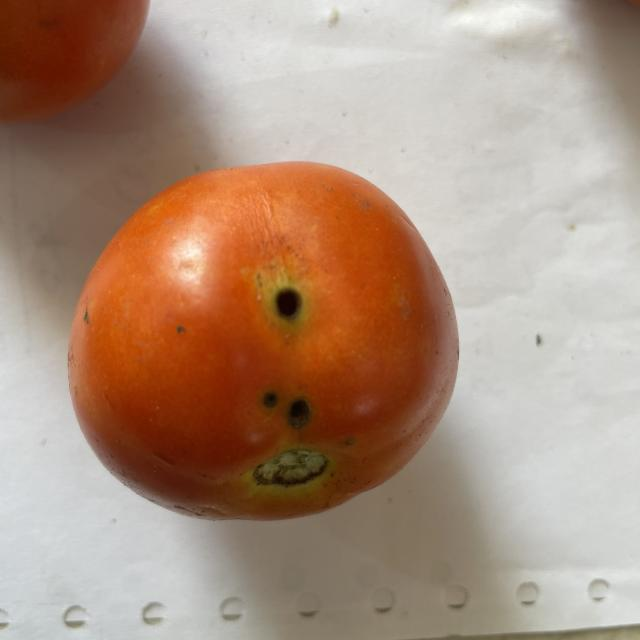fruitworm_bore: (253, 378, 323, 434), (265, 280, 312, 324)
